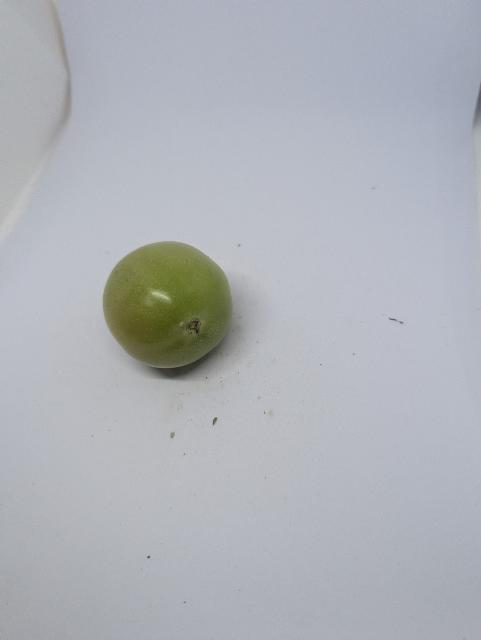green: (101, 240, 236, 370)
